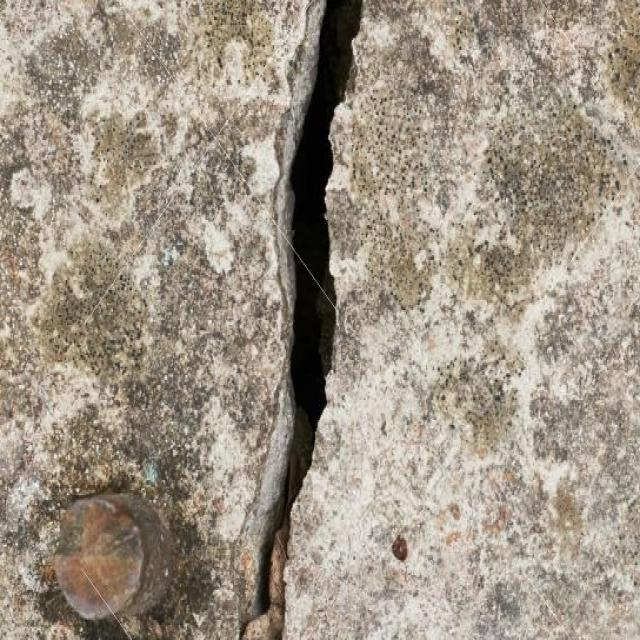Longitudinal: (225, 0, 352, 640)
